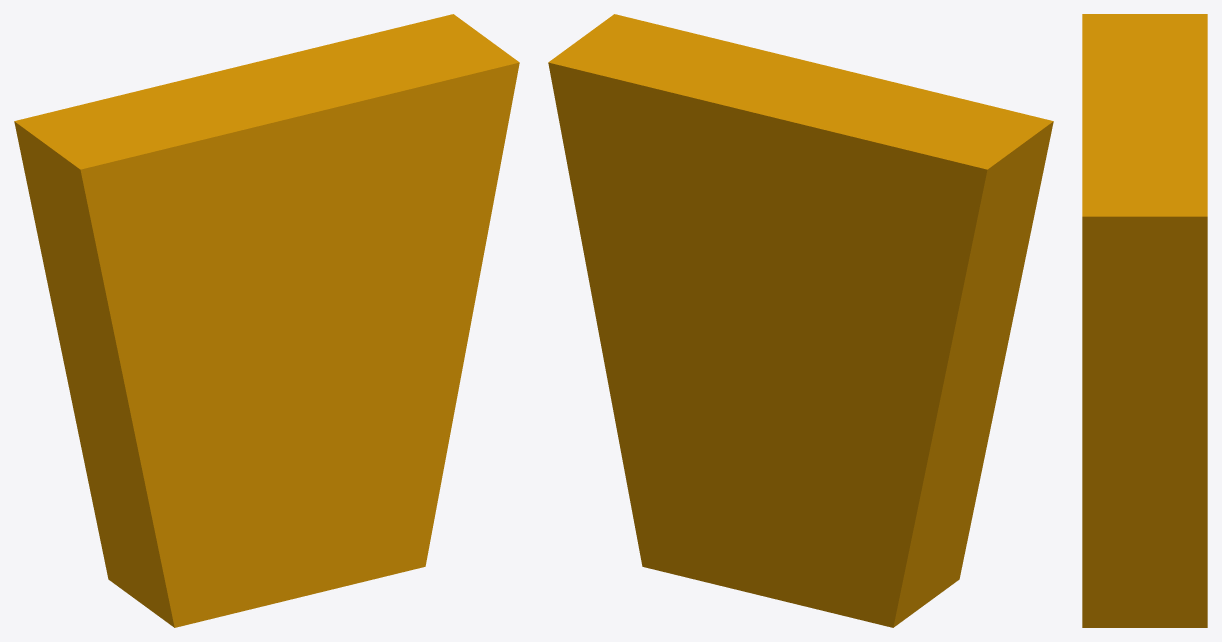
The model's file is Frieze_S_01.fbx.
The picture shows the model from 3 angles, left to right: view 1: azimuth 30°, elevation 25°; view 2: azimuth 150°, elevation 25°; view 3: azimuth 270°, elevation 25°; orthographic projection. The views are drawn at different scales.
Visible parts, largest first — view 1: Frieze_S_01; view 2: Frieze_S_01; view 3: Frieze_S_01.
Boxes of the visible parts, left/top/right/bottom form: Frieze_S_01: left=14, top=14, right=519, bottom=627; Frieze_S_01: left=548, top=14, right=1053, bottom=627; Frieze_S_01: left=1082, top=14, right=1207, bottom=627.
Size of the model in its own units: 54.91 by 57.48 by 14.35.
